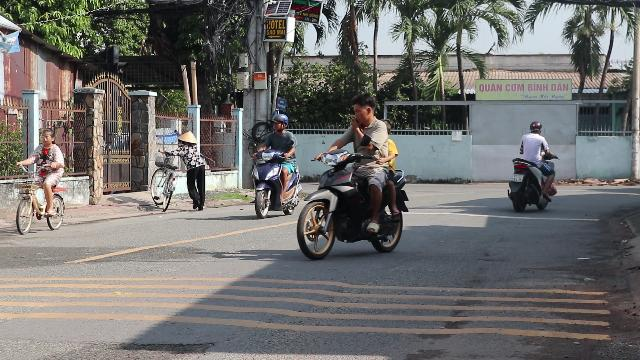helmet: (349, 92, 375, 124), (270, 114, 288, 132)
motorcyclist: (249, 113, 301, 219)
nohelmet: (294, 91, 412, 259)
